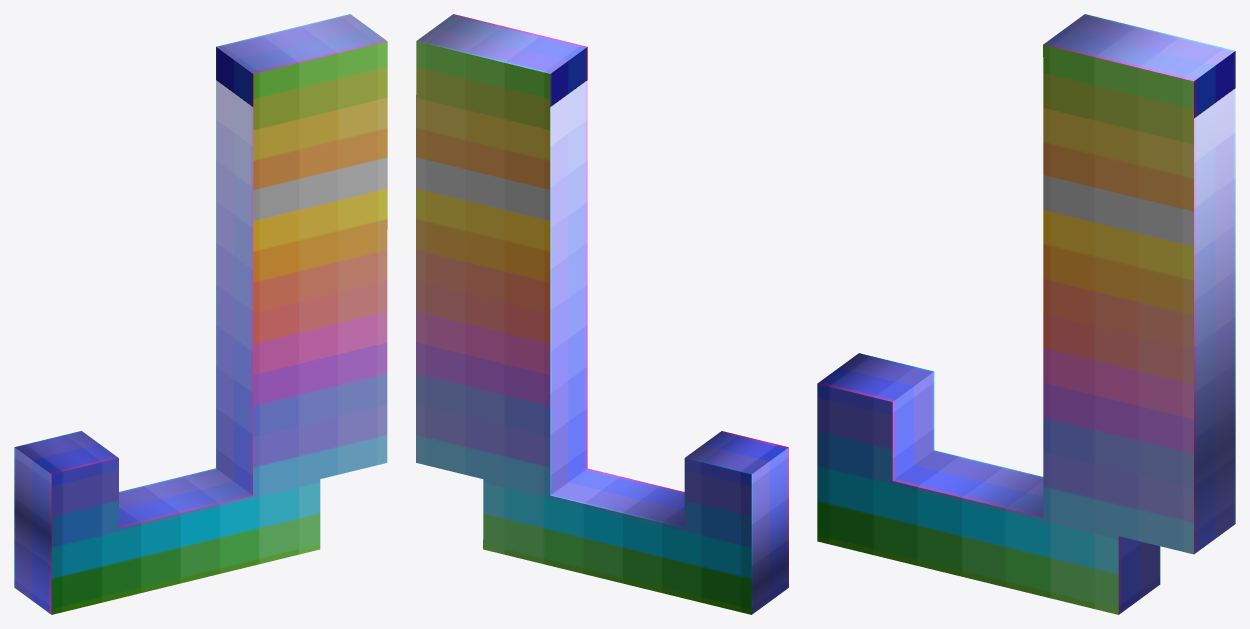
3 views of the same model, side by side, from view 1: azimuth 30°, elevation 25°; view 2: azimuth 150°, elevation 25°; view 3: azimuth 330°, elevation 25° (orthographic). The views are drawn at different scales.
Parts seen in each view (by area): view 1: j; view 2: j; view 3: j.
Part boxes in pixels (x1=…): j: x1=14, y1=14, x2=387, y2=614; j: x1=416, y1=14, x2=788, y2=614; j: x1=817, y1=14, x2=1235, y2=614.
Bounding box in the file's own units: 0.4167 × 0.5834 × 0.0803.
1 material, 1 textured.
